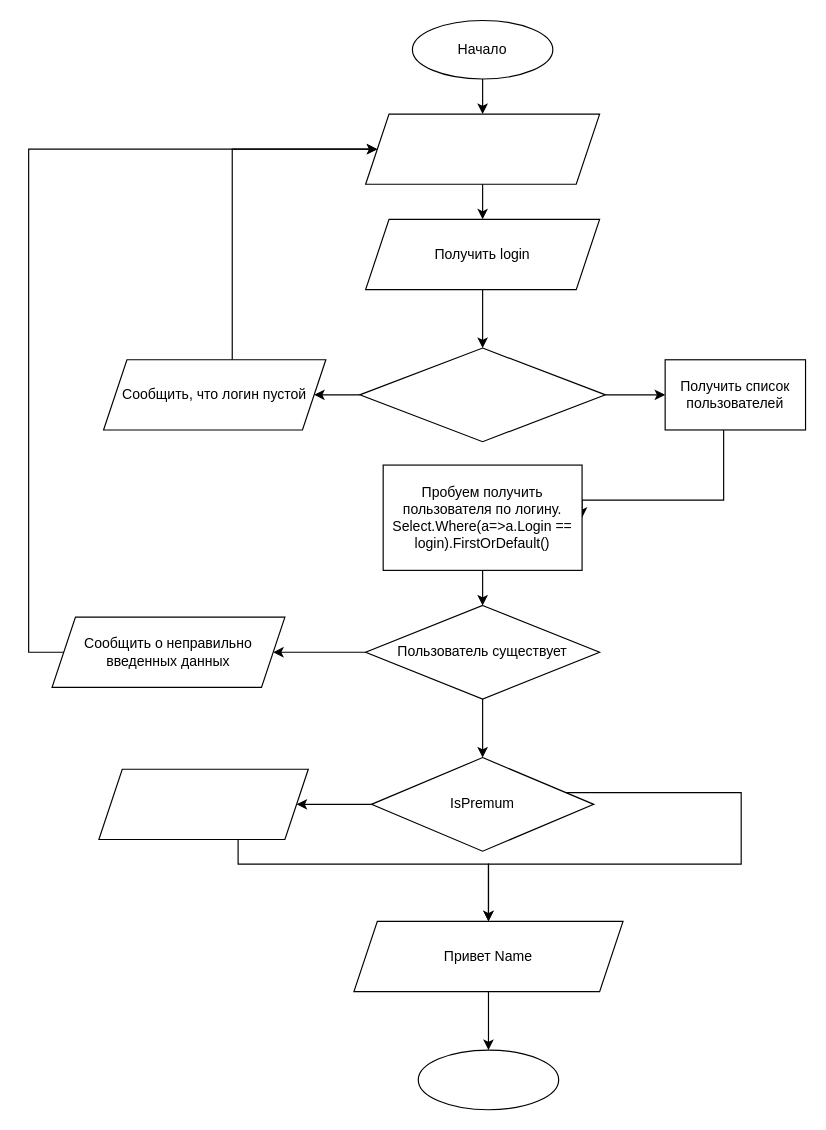
Image size: 826x1130. Some labels were removed from this diagram. Each missing label, with the centre of its shape:
"Login не пустой" goes at point 482,394.
"Закидываем спамом ShowAdds()" goes at point 203,803.
"запросить login" goes at point 482,148.
"Конец" goes at point 488,1079.
